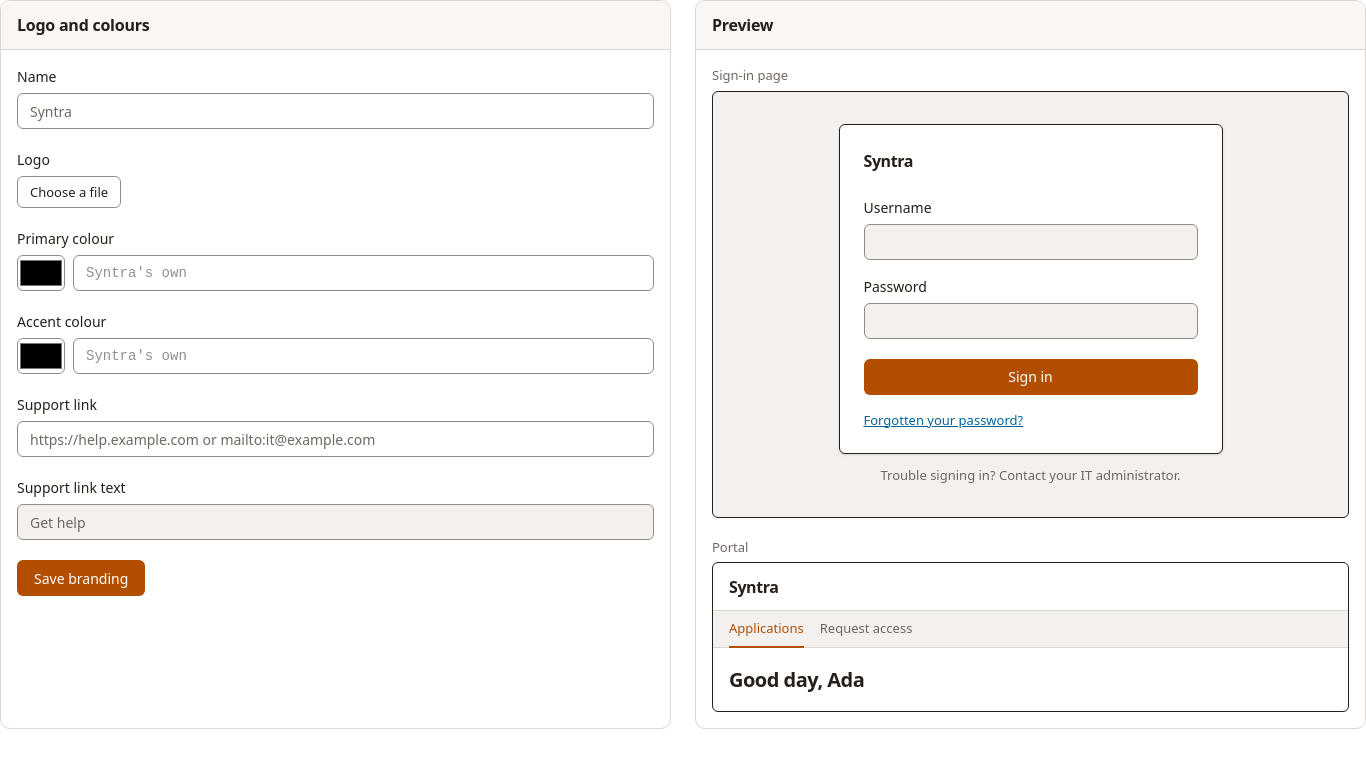
BrandingTab › repeats the server refusal verbatim, ratio and all
The width and height of the screenshot is (1366, 768).
Type "#fffbe6" into the field labelled "Primary colour" at (364, 273), box [73,255,654,291]
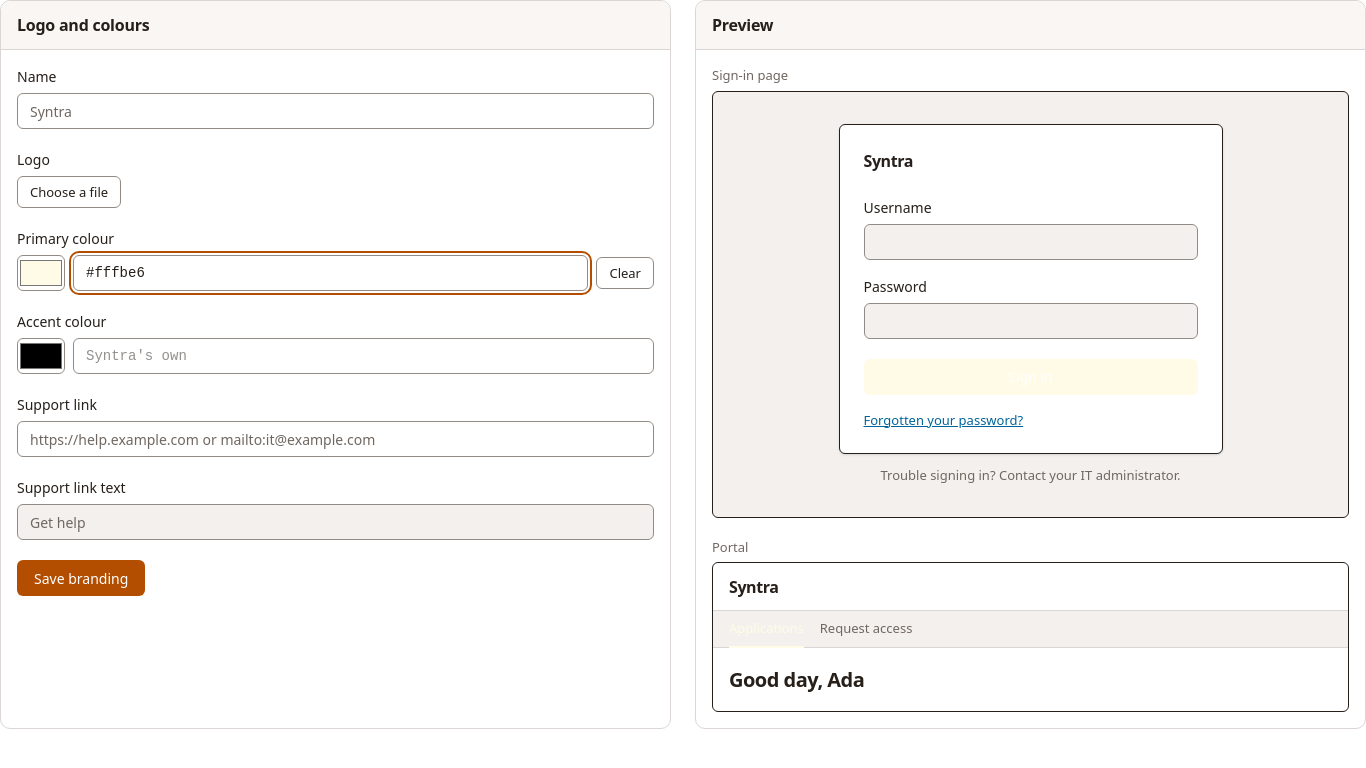
Click the button "Save branding" at (81, 578), box [17,560,145,596]
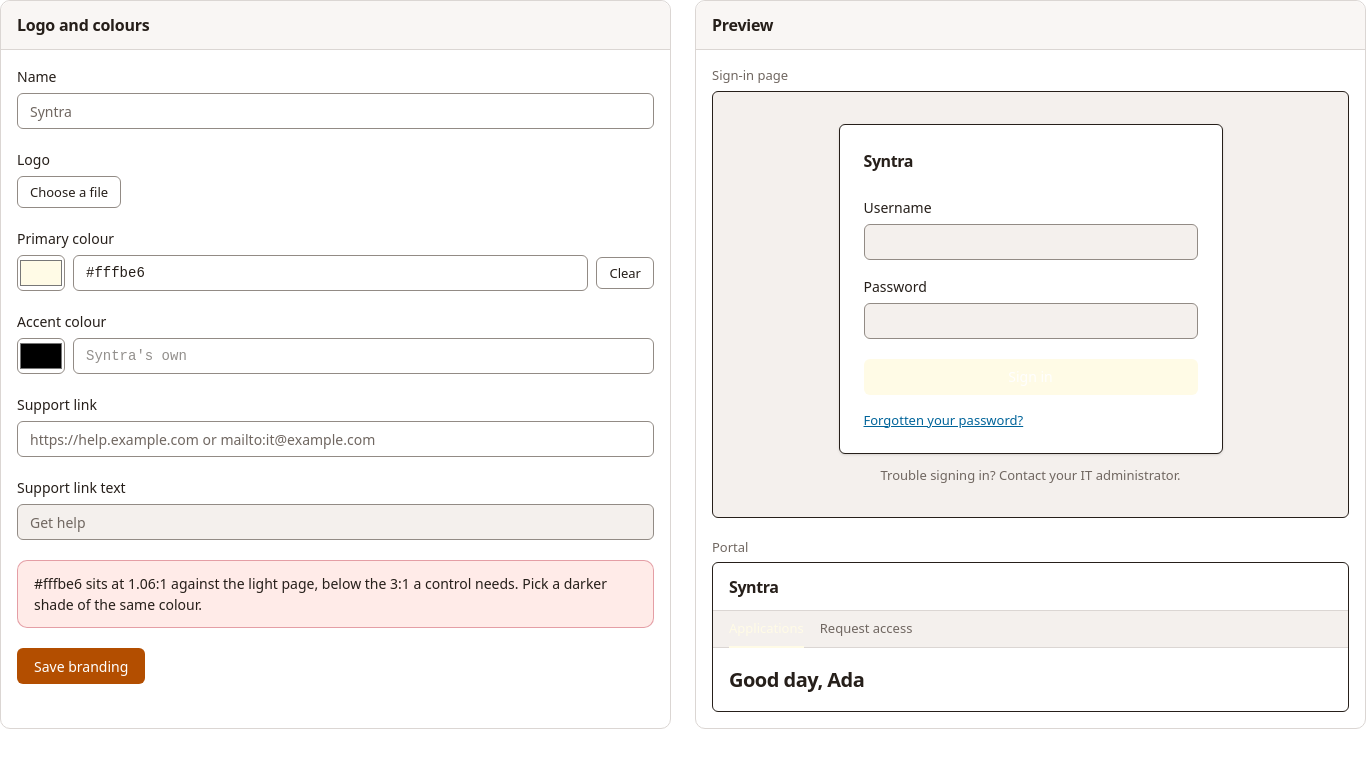
Result: the text "#fffbe6 sits at 1.06:1 against the light page, below the 3:1 a control needs. Pick a darker shade of the same colour." is shown at [34,574,607,614]
